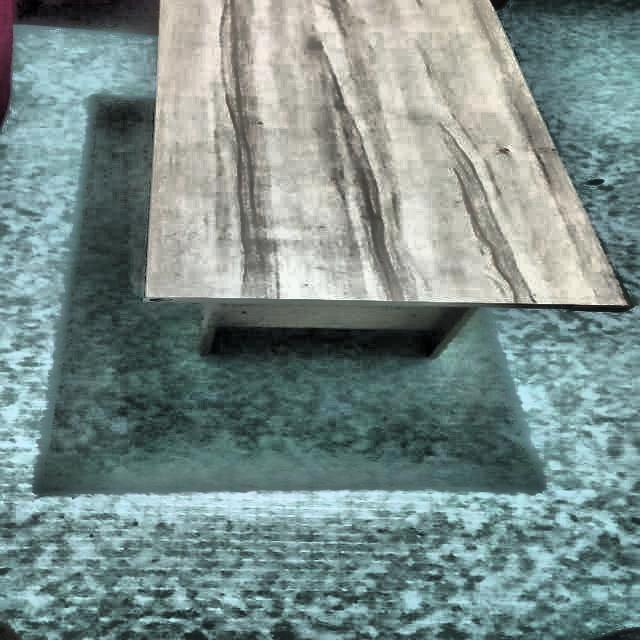mesa: (138, 0, 630, 372)
